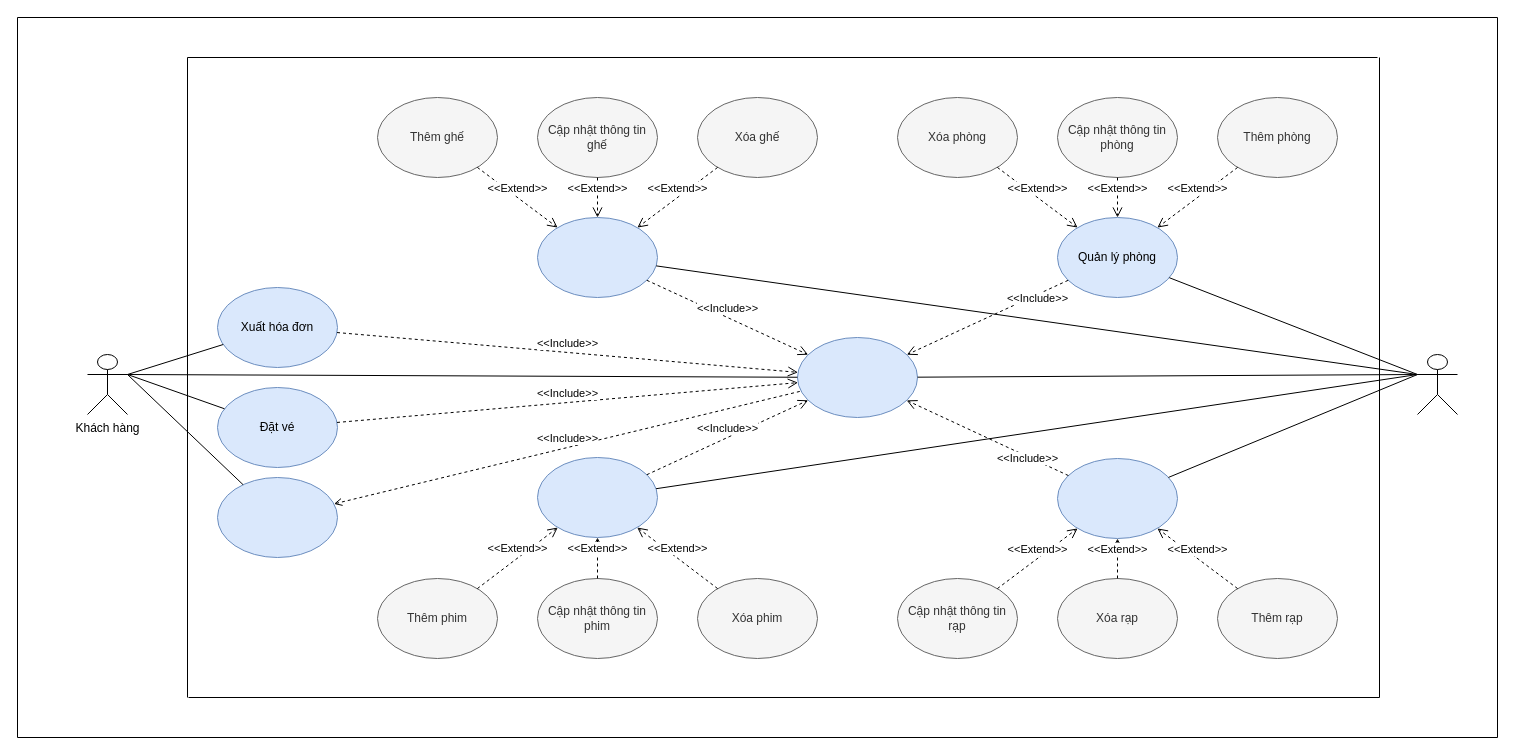
The diagram is 1516 pixels wide and 756 high, and some of its shapes have lost their labels. The shapes that lost their labels are listed below. From the top down, each one's centre as x and y in pixels, then its label:
At [597,257]: "Quản lý ghế".
At [857,377]: "Đăng nhập".
At [1437,384]: "Nhân viên".
At [277,517]: "Đăng ký tài khoản".
At [597,497]: "Quản lý phim".
At [1117,498]: "Quản lý rạp".
